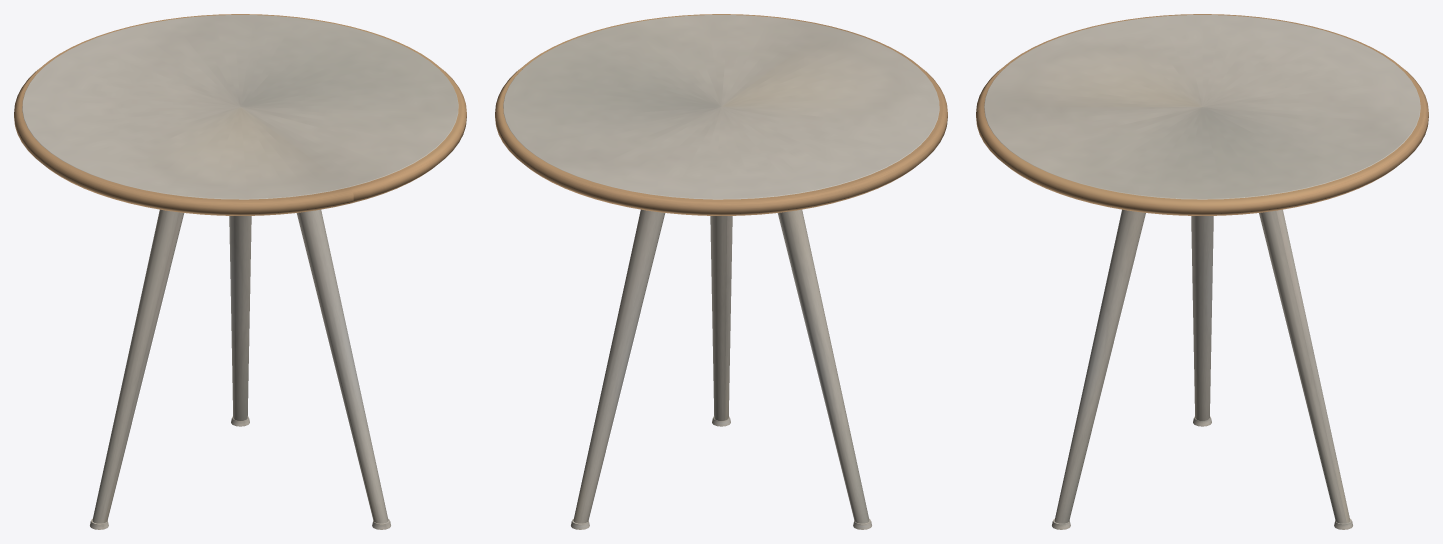
Rendered from hp-a213-dme52-0d4db8.glb.
The picture shows the model from 3 angles, left to right: view 1: azimuth 30°, elevation 25°; view 2: azimuth 150°, elevation 25°; view 3: azimuth 270°, elevation 25°; orthographic projection.
Visible parts, largest first — view 1: cream (×4), primary; view 2: cream (×4), primary; view 3: cream (×4), primary.
Boxes of the visible parts, <box> form: cream (×4): <box>22,15,458,523</box>; primary: <box>14,14,466,215</box>; cream (×4): <box>503,15,939,523</box>; primary: <box>495,14,947,215</box>; cream (×4): <box>984,15,1420,523</box>; primary: <box>976,14,1428,215</box>.
Bounding box in the file's own units: 0.8 × 0.75 × 0.8.
Materials: 2 (2 with a texture image).
